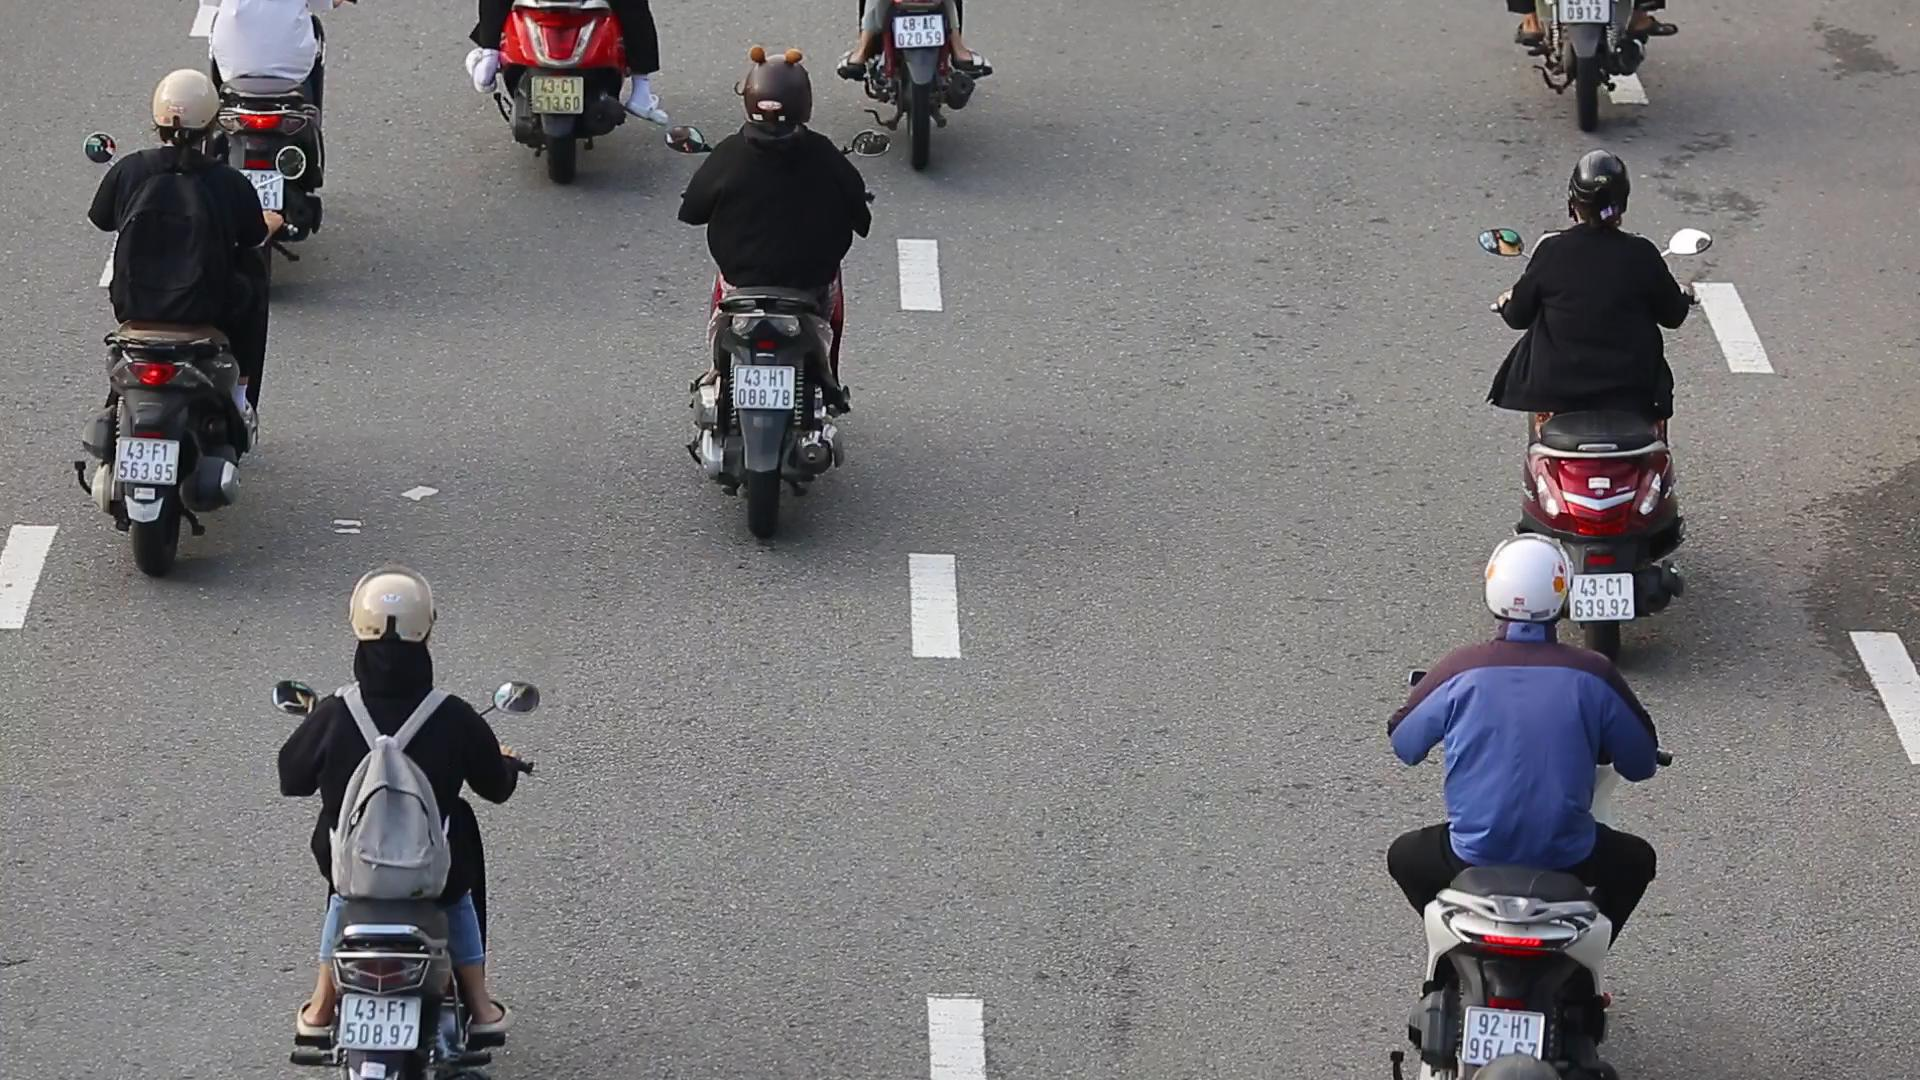motobike: (257, 560, 542, 1080), (74, 58, 301, 575), (1497, 111, 1696, 634), (670, 49, 876, 550)
